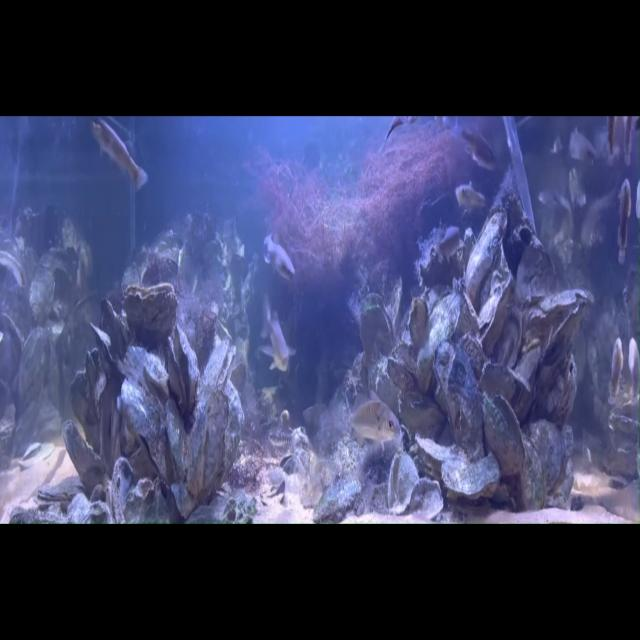Oyster- Indeterminate: (457, 203, 514, 297)
Oyster-Closed: (106, 369, 197, 483), (188, 389, 238, 502), (410, 287, 467, 383), (468, 263, 521, 358), (0, 392, 69, 462), (53, 415, 111, 490), (114, 341, 184, 403), (537, 353, 594, 429), (525, 415, 576, 492), (309, 468, 366, 535), (438, 275, 487, 344), (65, 368, 107, 447), (439, 452, 503, 503), (405, 433, 464, 485), (15, 325, 52, 407), (393, 390, 449, 442), (514, 436, 548, 512), (103, 454, 138, 526), (163, 396, 192, 480), (32, 244, 81, 291), (474, 359, 523, 405), (452, 326, 493, 378), (0, 286, 35, 340), (27, 263, 56, 326), (0, 313, 23, 387), (92, 320, 118, 378), (512, 339, 544, 383), (0, 402, 17, 469)
Oyster-Open: (421, 336, 495, 459), (514, 275, 591, 366), (476, 388, 529, 479), (388, 451, 444, 520), (165, 324, 200, 416), (198, 332, 239, 402), (124, 282, 178, 334), (123, 477, 181, 525), (490, 302, 530, 370), (360, 293, 392, 364), (96, 296, 128, 363), (0, 248, 33, 288)
